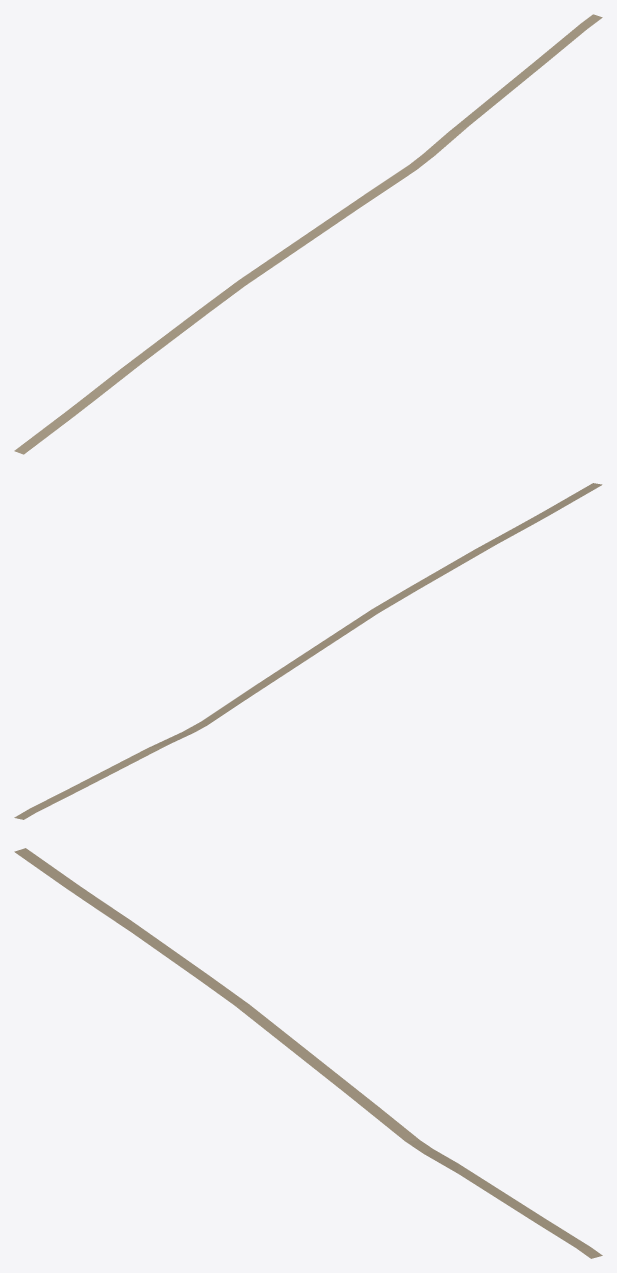
Rendered from farm_15_10_track.glb.
3 views of the same model, one above another, from view 1: azimuth 30°, elevation 25°; view 2: azimuth 210°, elevation 25°; view 3: azimuth 270°, elevation 25° (orthographic). The views are drawn at different scales.
Visible parts, largest first — view 1: geometry_0; view 2: geometry_0; view 3: geometry_0.
Boxes of the visible parts, bbox=[...] form: geometry_0: bbox=[14, 14, 602, 454]; geometry_0: bbox=[14, 483, 602, 819]; geometry_0: bbox=[14, 848, 602, 1258].
Size of the model in its own units: 272 by 16.1 by 144.
